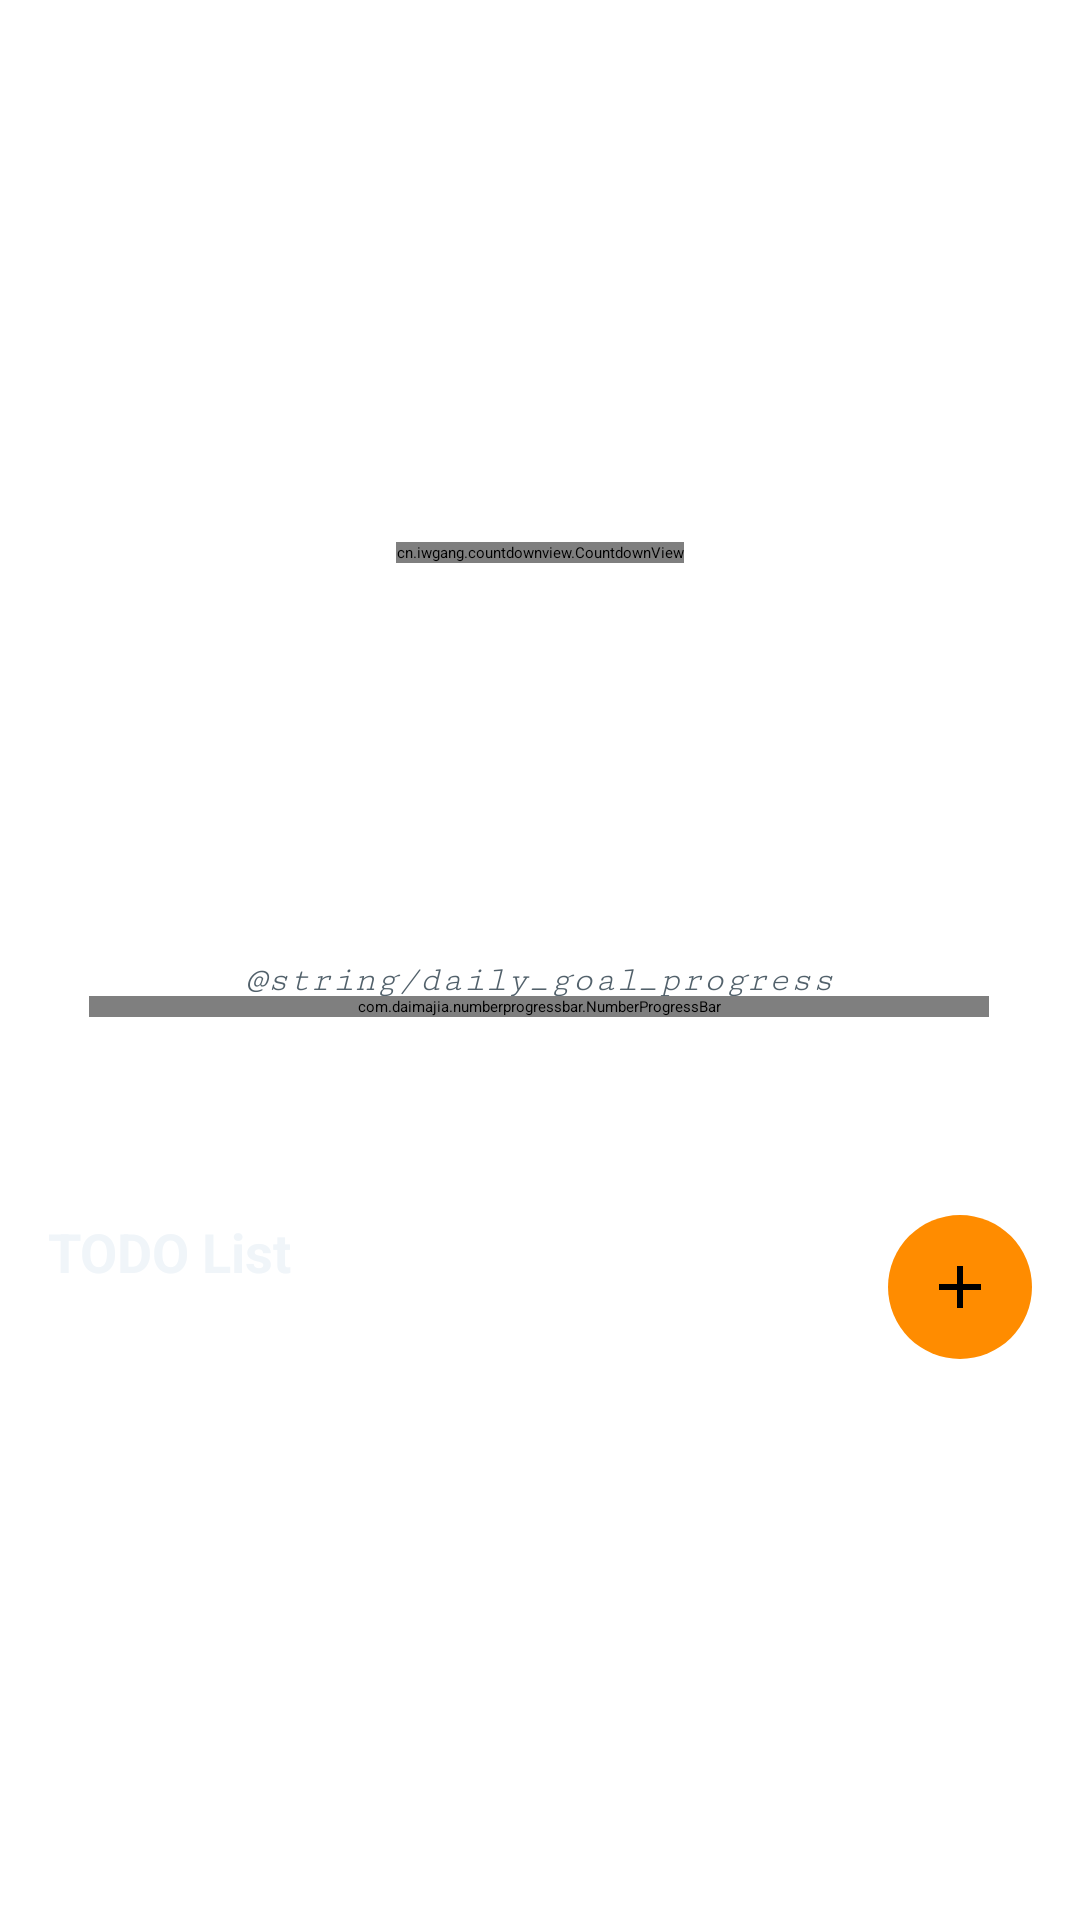

Locate icon controls on the screen. Image size 1080px×1920px, boxes as [x1,y1,x2,y2].
Add TODO: [888,1215,1032,1359]
